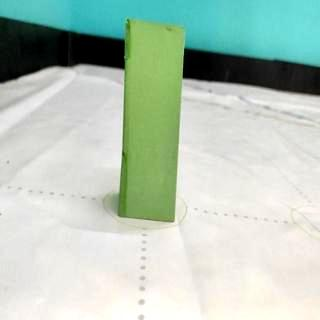greenbox: (116, 19, 186, 222)
